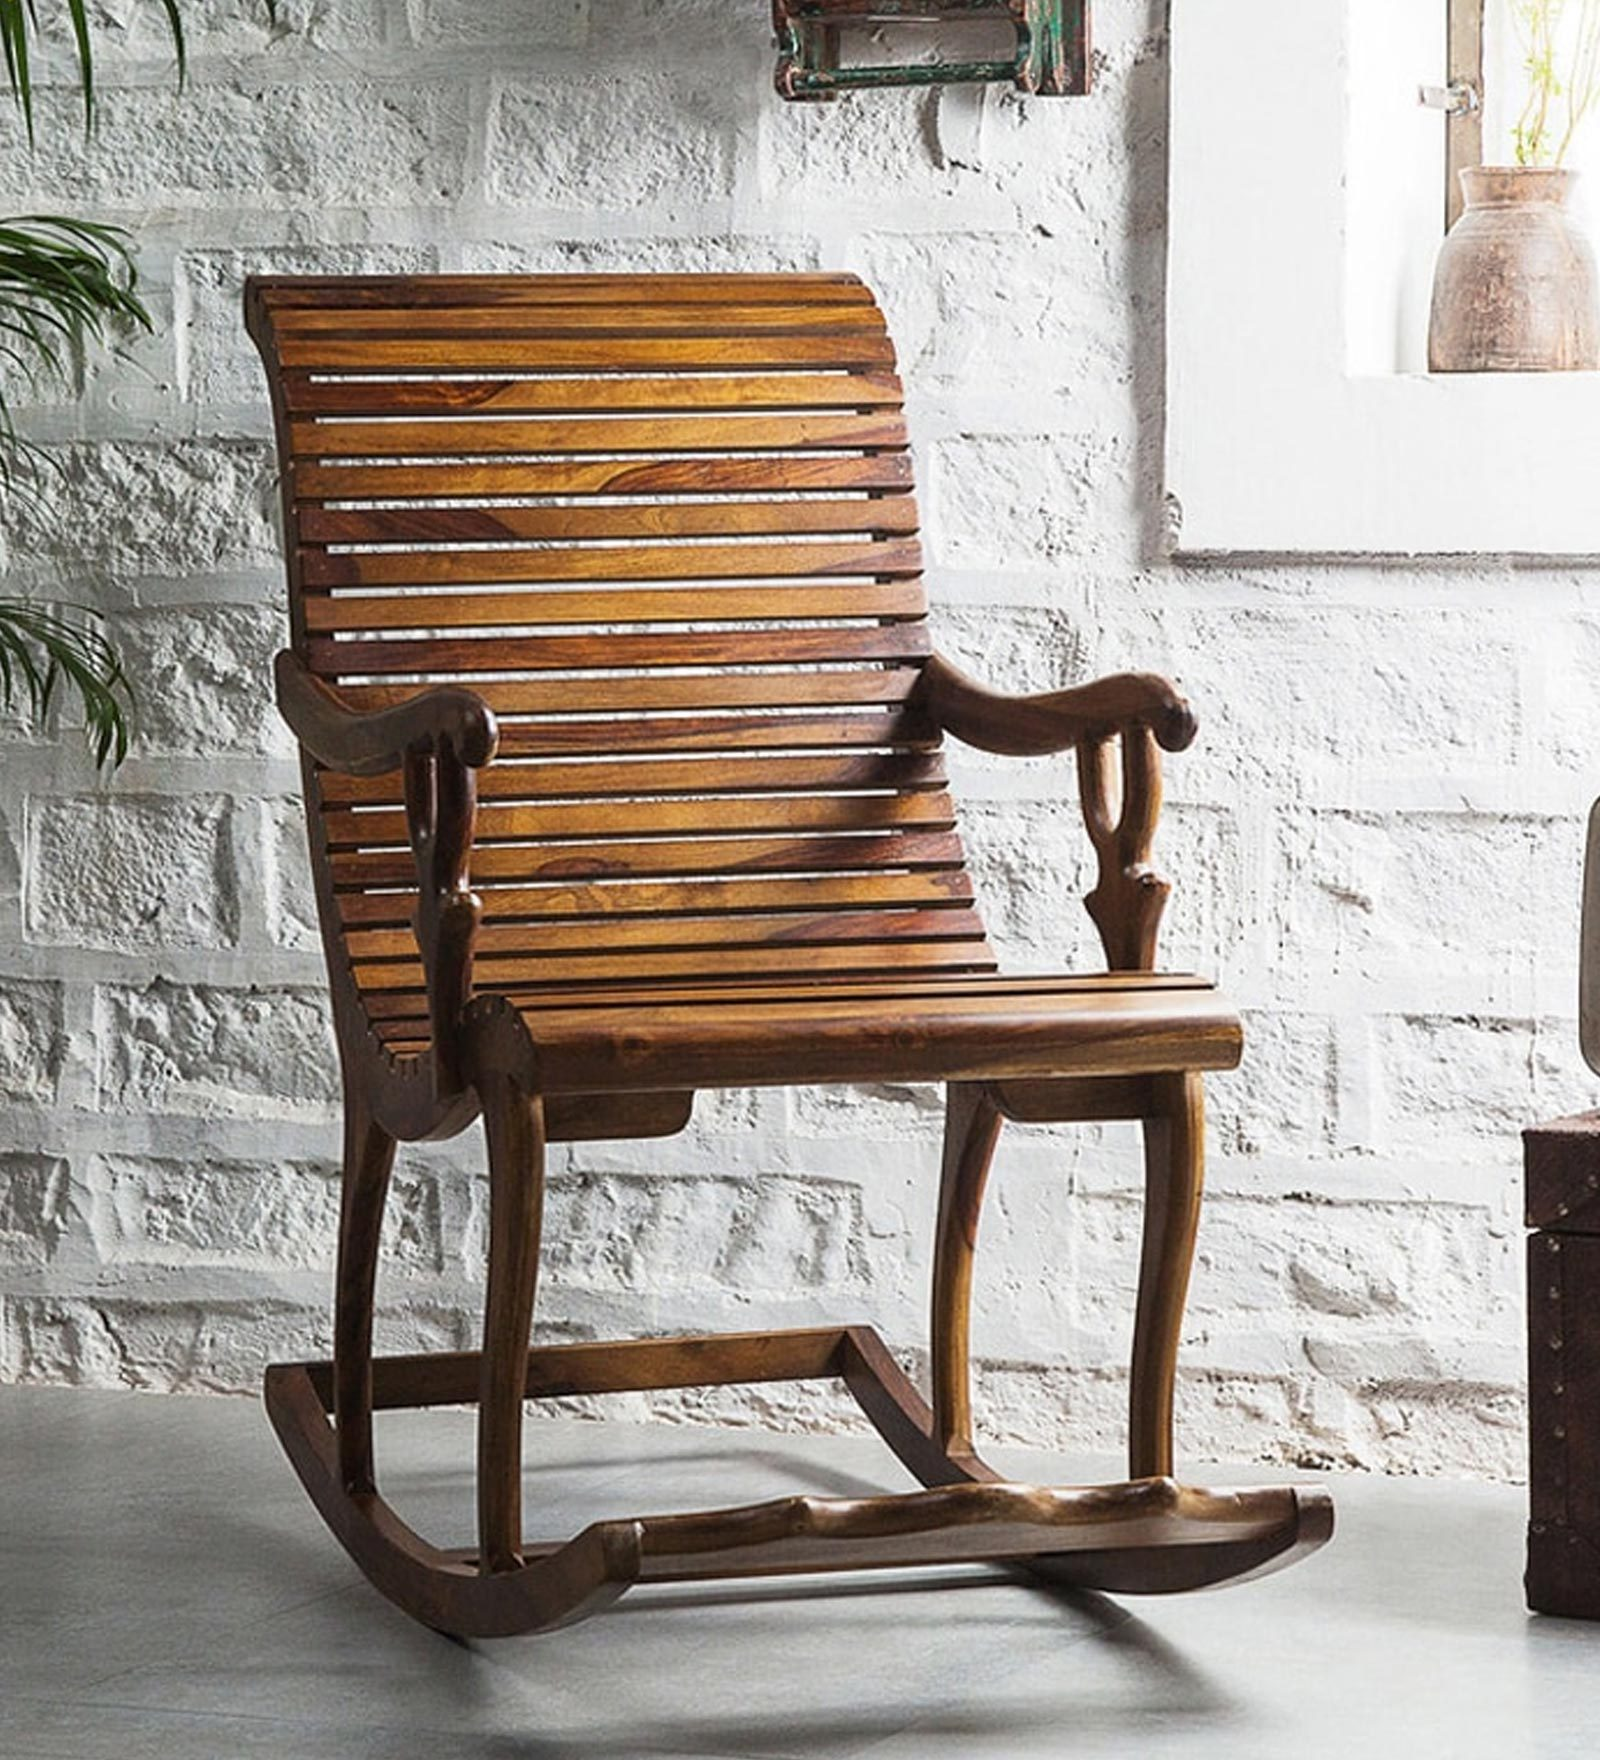Acklom Rocking Chair in Provincial Teak Finish by Amberville: (192, 247, 1373, 1657)
